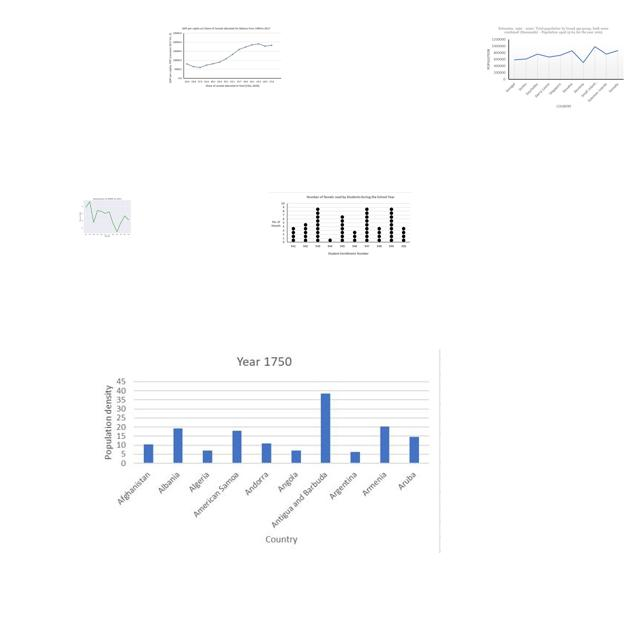Graph: (90, 349, 441, 553), (482, 23, 627, 109), (269, 192, 412, 257), (166, 24, 284, 91), (75, 195, 138, 238)
